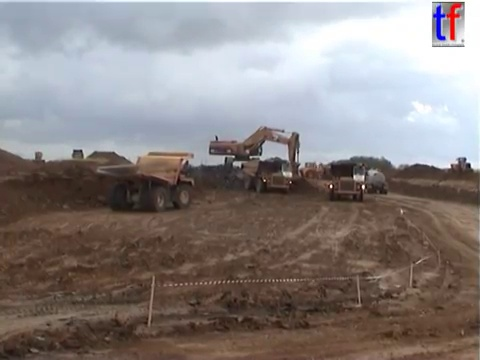excavator: (207, 123, 304, 184)
truck: (94, 149, 196, 213), (239, 157, 296, 194), (325, 159, 366, 203), (299, 160, 355, 180), (355, 165, 389, 196), (70, 147, 85, 163)
wheel loader: (441, 156, 474, 175)
